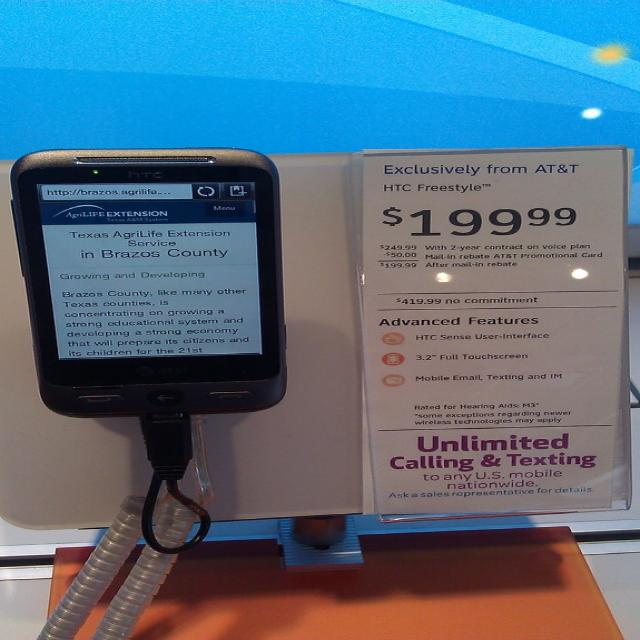Mobile-phone: (8, 147, 290, 417)
